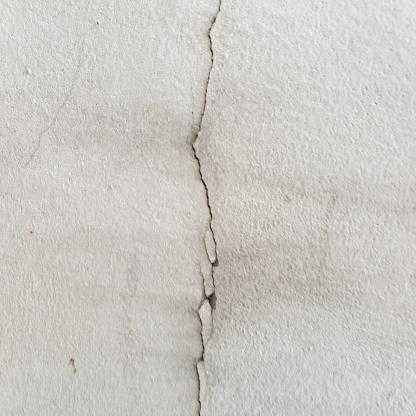crack: (192, 0, 221, 415)
